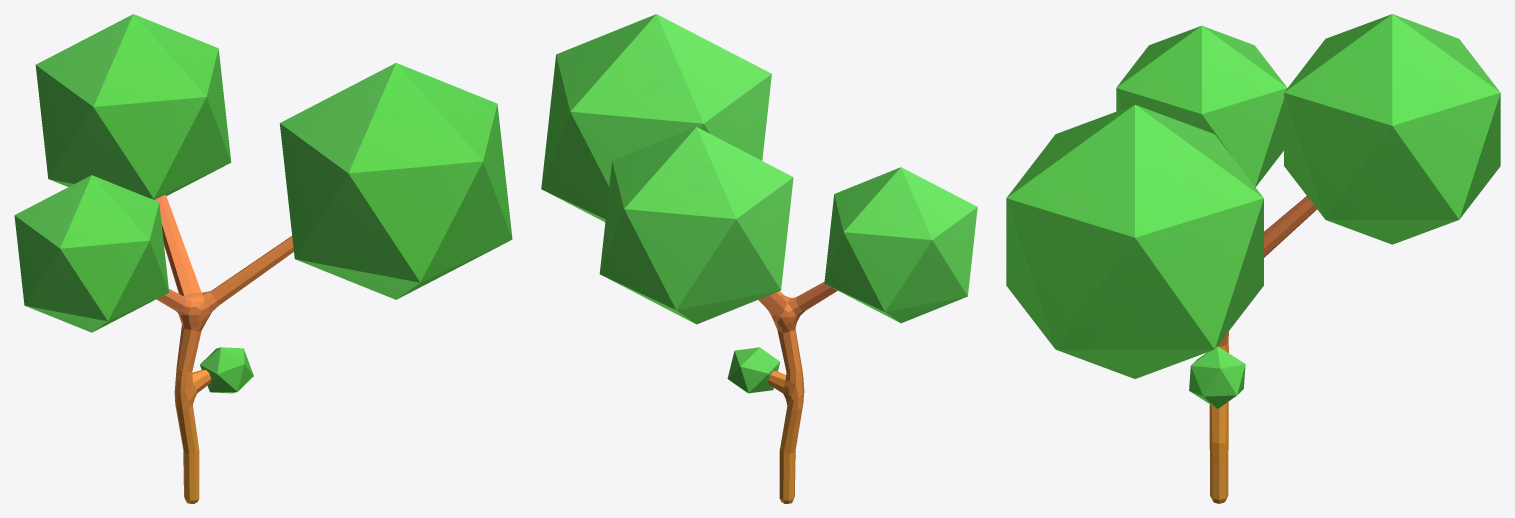
Rendered from Tree_4.fbx.
The picture shows the model from 3 angles, left to right: view 1: azimuth 30°, elevation 25°; view 2: azimuth 150°, elevation 25°; view 3: azimuth 270°, elevation 25°; orthographic projection. The views are drawn at different scales.
Parts seen in each view (by area): view 1: Tree_4; view 2: Tree_4; view 3: Tree_4.
Boxes of the visible parts, left/top/right/bottom form: Tree_4: left=14, top=14, right=512, bottom=503; Tree_4: left=541, top=14, right=977, bottom=503; Tree_4: left=1006, top=14, right=1500, bottom=503.
Bounding box in the file's own units: 285 × 264 × 238.
1 material, 1 textured.
